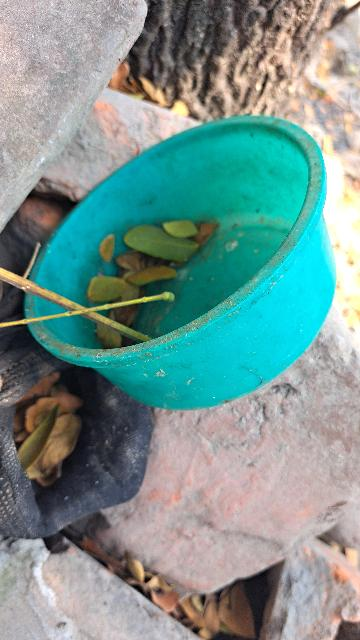hardplastic: (16, 111, 349, 415)
